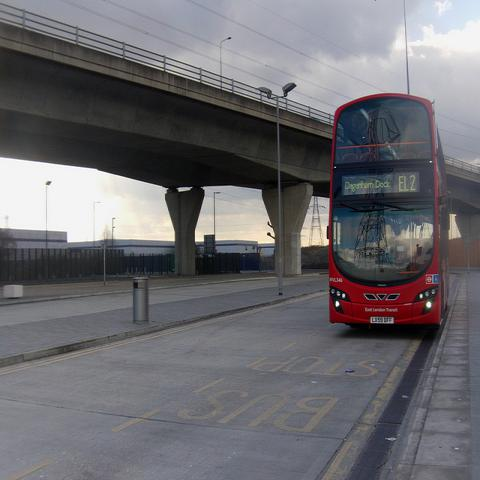bus: (321, 90, 456, 329)
